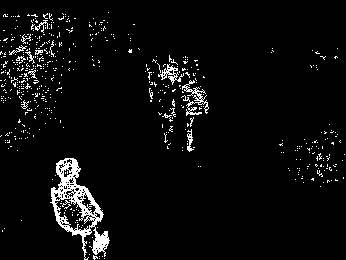person: (50, 156, 109, 257), (180, 79, 208, 152)
